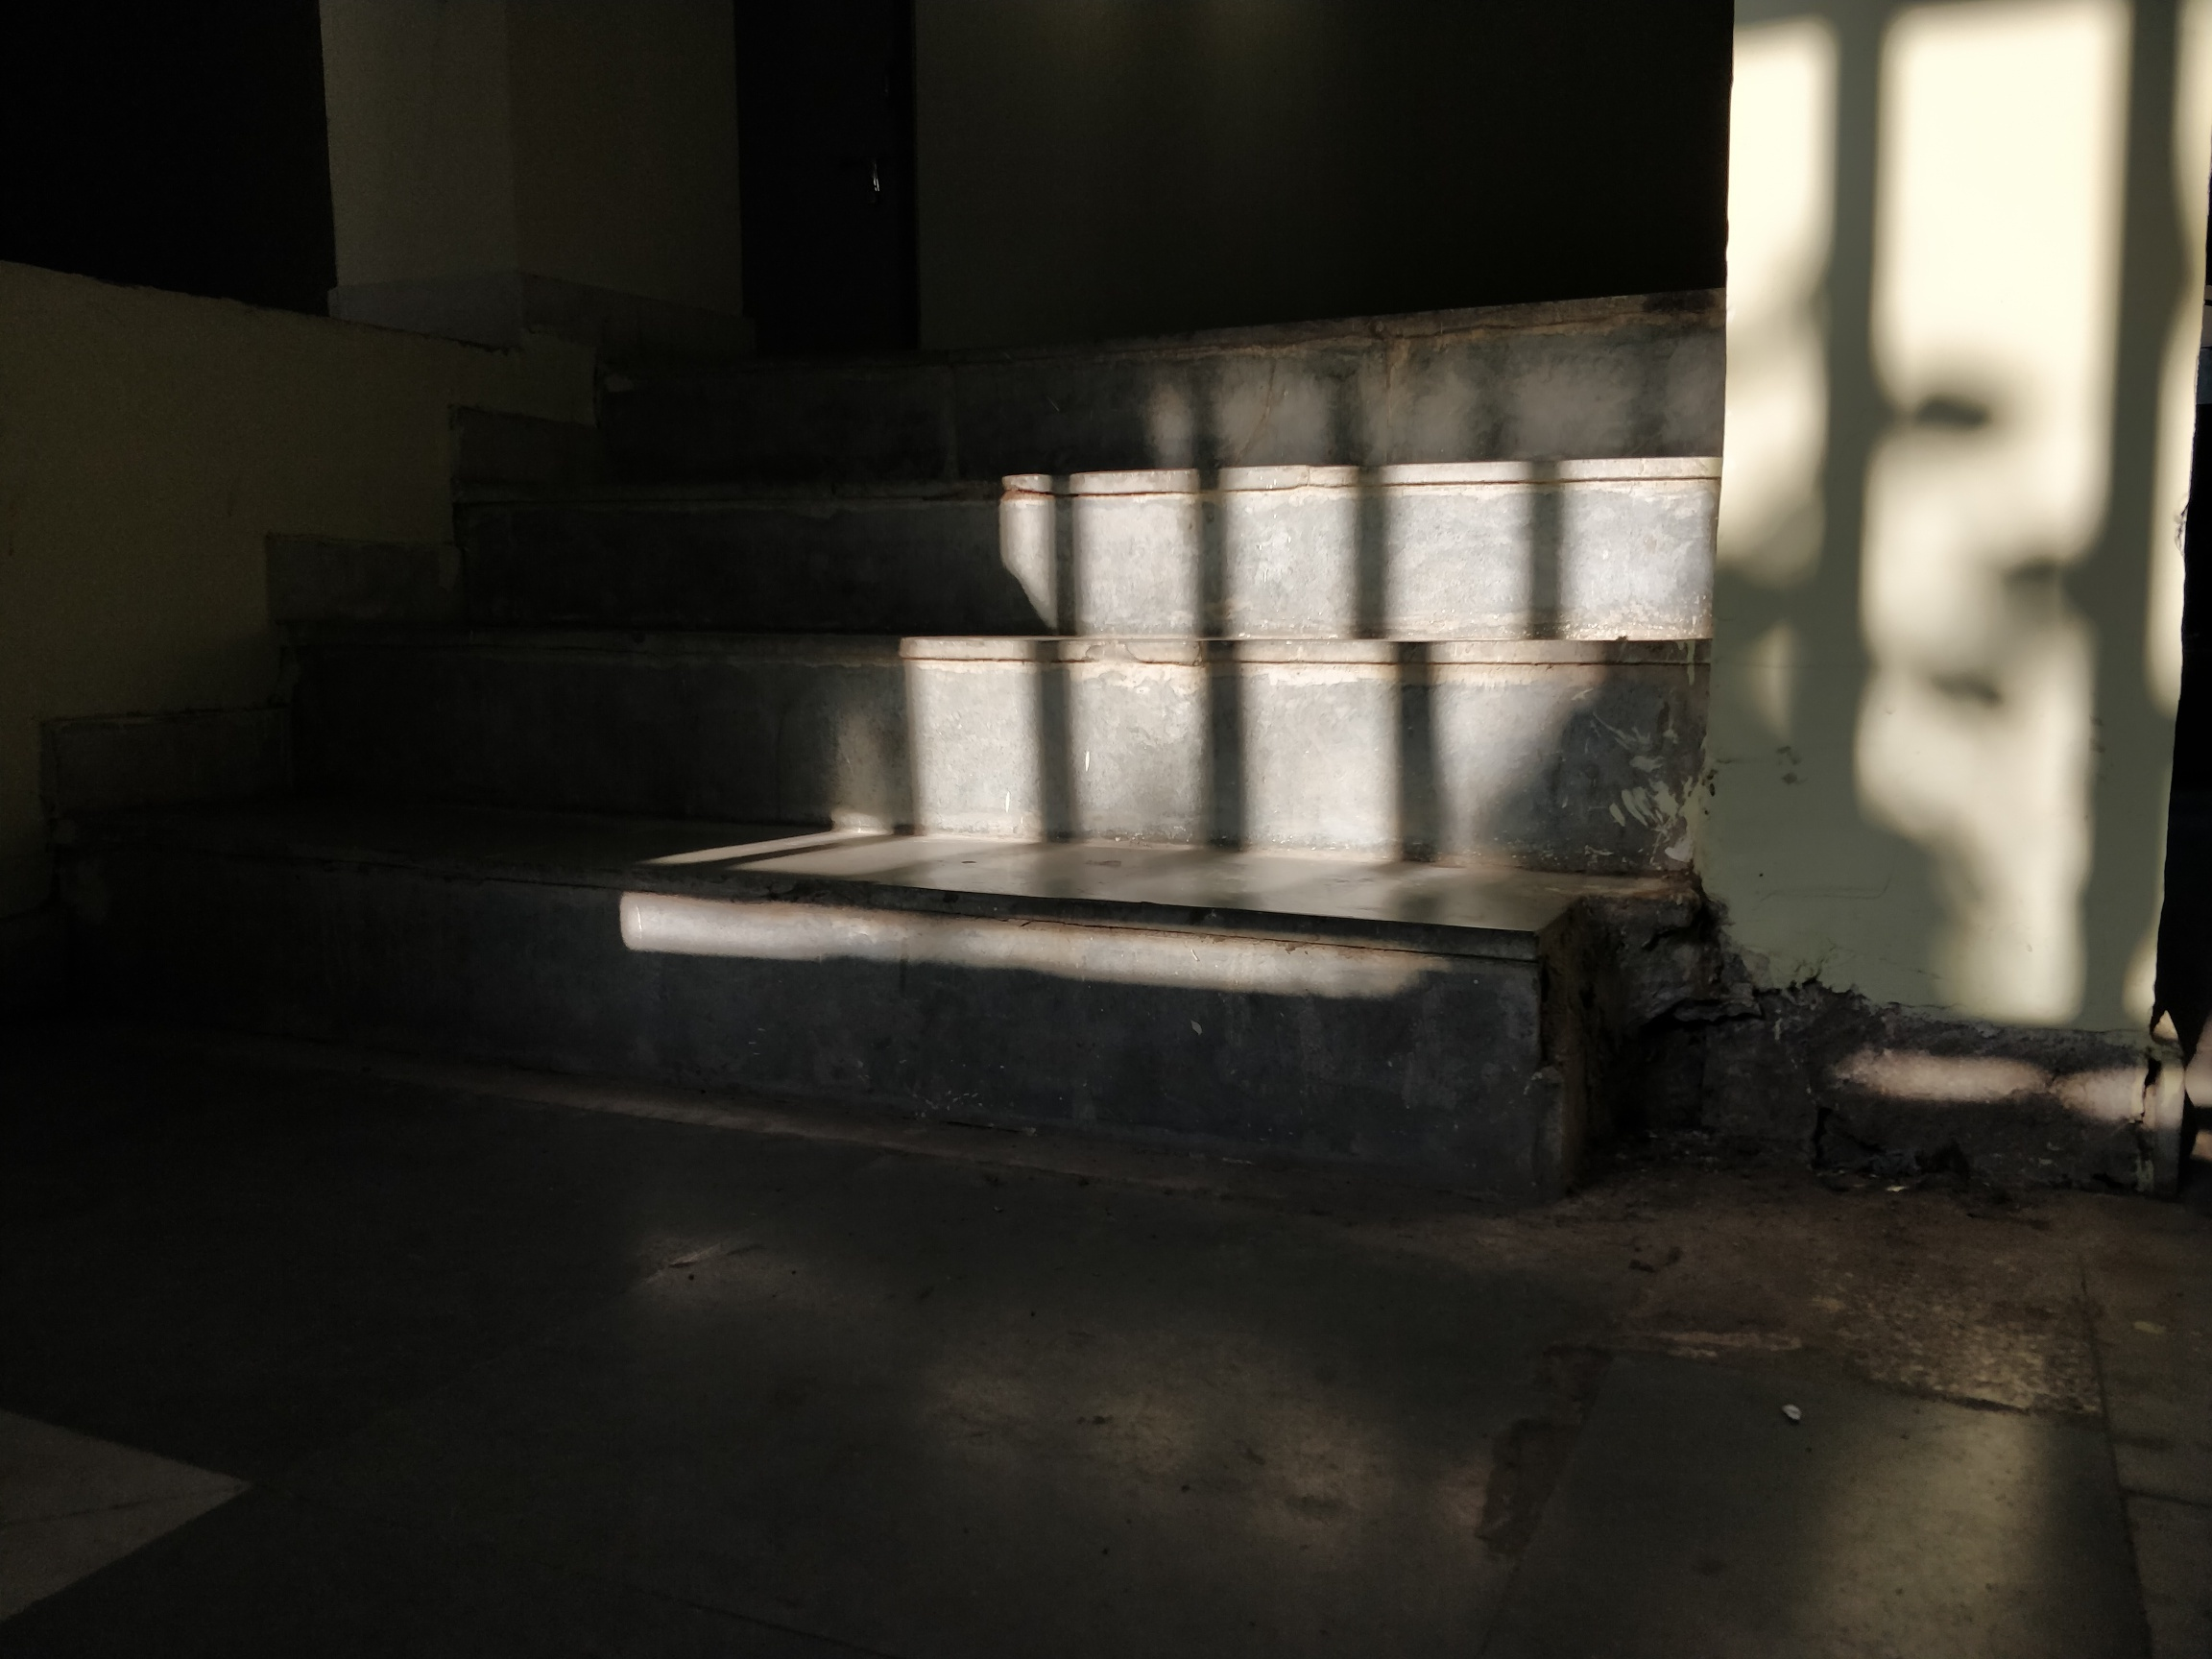stairs_up: (59, 211, 1759, 1195)
